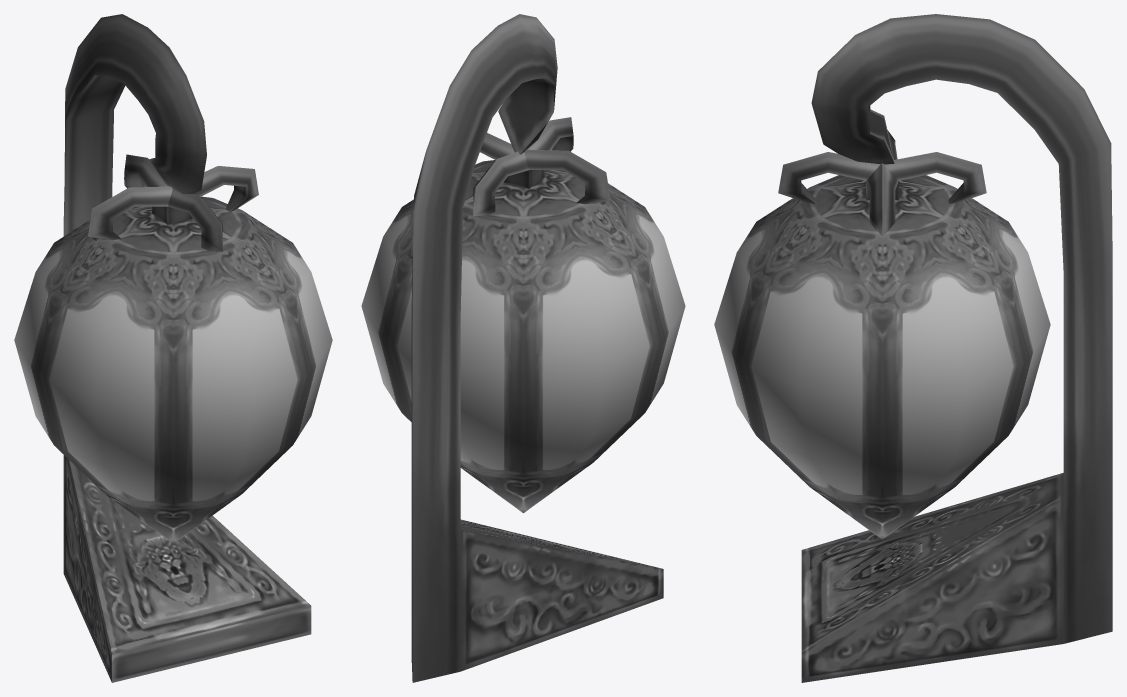
Rendered from KingLamp_HD.fbx.
3 renders of one model, left to right at view 1: azimuth 30°, elevation 25°; view 2: azimuth 150°, elevation 25°; view 3: azimuth 270°, elevation 25°, orthographic. The views are drawn at different scales.
Visible parts, largest first — view 1: KingLamp; view 2: KingLamp; view 3: KingLamp.
Boxes of the visible parts, bbox=[...] form: KingLamp: bbox=[14, 14, 332, 682]; KingLamp: bbox=[361, 14, 685, 682]; KingLamp: bbox=[714, 14, 1112, 682].
Size of the model in its own units: 0.4826 by 0.9774 by 0.5716.
